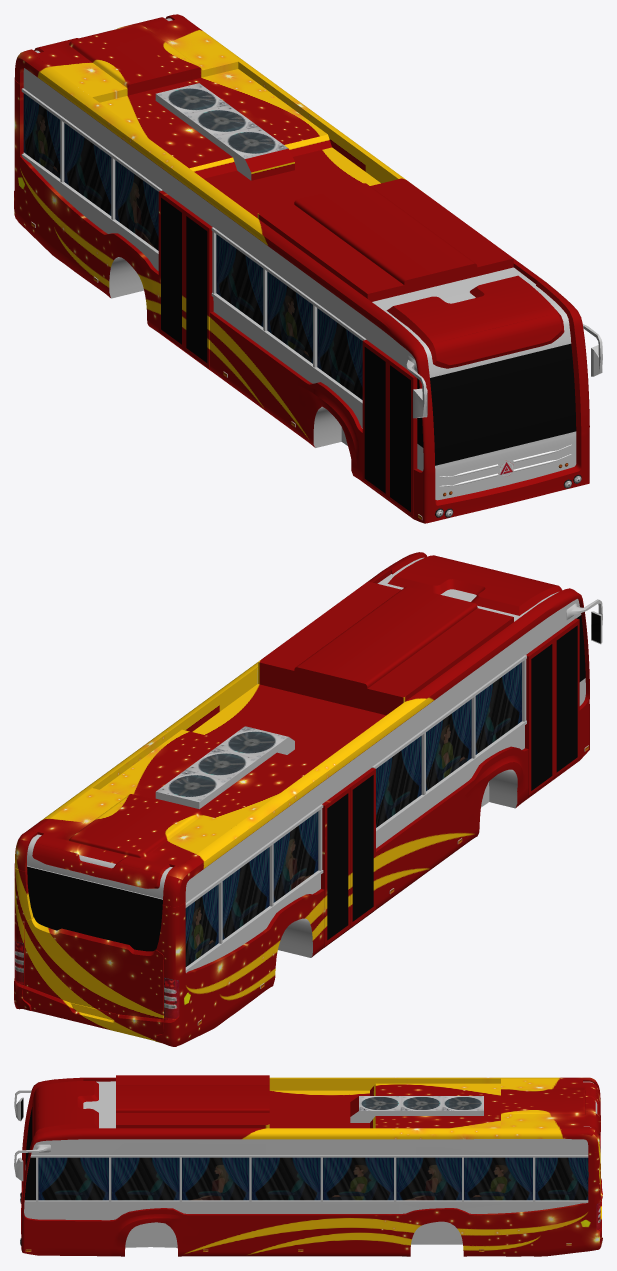
File: Bus_3.fbx
The picture shows the model from 3 angles, top to bottom: view 1: azimuth 30°, elevation 25°; view 2: azimuth 150°, elevation 25°; view 3: azimuth 270°, elevation 25°; orthographic projection. The views are drawn at different scales.
Visible parts, largest first — view 1: Bus_3; view 2: Bus_3; view 3: Bus_3.
Part boxes in pixels (left/top/right/bottom): Bus_3: left=14, top=14, right=602, bottom=523; Bus_3: left=14, top=552, right=602, bottom=1046; Bus_3: left=14, top=1075, right=602, bottom=1256.
Bounding box in the file's own units: 99.09 × 95.25 × 385.
